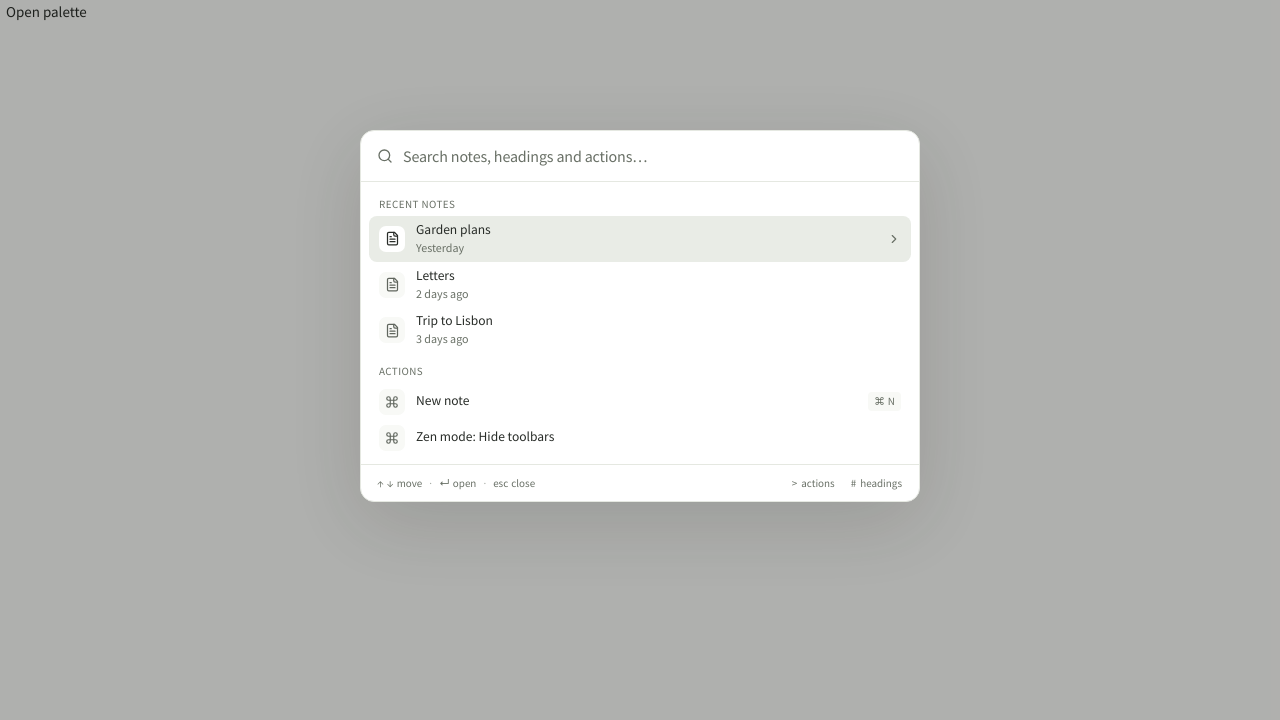
Test case: command palette › ranks notes, highlights matches and shows a content snippet
The width and height of the screenshot is (1280, 720).
Type "garden" into the dropdown labelled "Search notes, headings and actions…" at (653, 156), box [403,131,903,181]
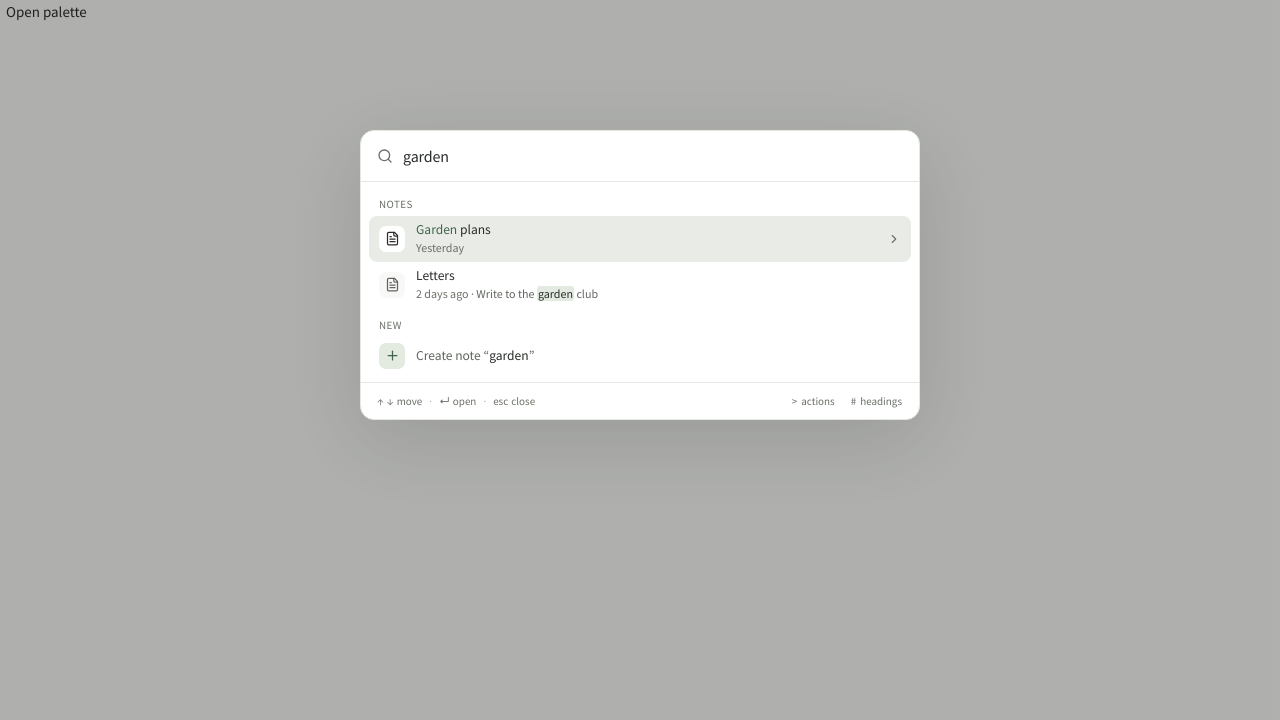
expect the text "Garden" is shown: met, box [416,221,457,238]
expect the option "Letters 2 days ago · Write to the garden club" is shown: met, box [379,267,598,301]
expect the text "garden" next to "Write to the" is shown: met, box [538,286,573,301]
